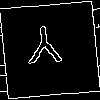Y: (24, 24, 65, 74)
